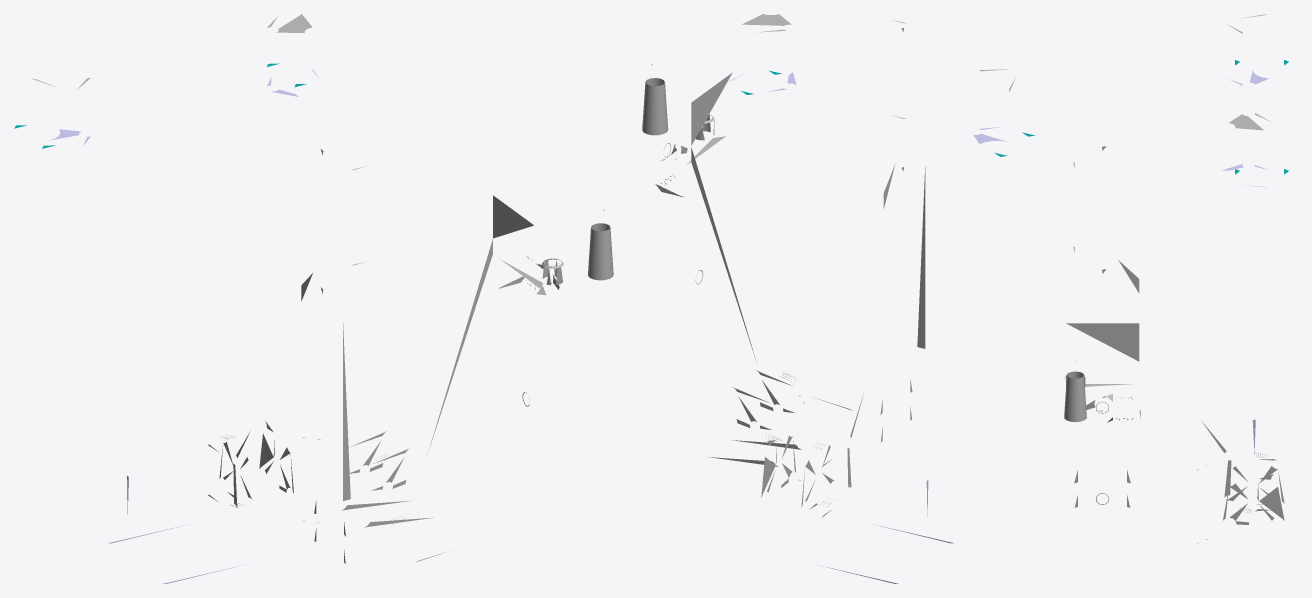
The picture shows the model from 3 angles, left to right: view 1: azimuth 30°, elevation 25°; view 2: azimuth 150°, elevation 25°; view 3: azimuth 270°, elevation 25°; orthographic projection. The views are drawn at different scales.
Visible parts, largest first — view 1: F19721000063102000117_001_zb_ub_stiftzieher_17_fa; view 2: F19721000063102000117_001_zb_ub_stiftzieher_17_fa (×2); view 3: F19721000063102000117_001_zb_ub_stiftzieher_17_fa (×2).
Boxes of the visible parts, box(x1,y1,x2,y2) form: F19721000063102000117_001_zb_ub_stiftzieher_17_fa: box(32, 14, 613, 563); F19721000063102000117_001_zb_ub_stiftzieher_17_fa (×2): box(642, 14, 1015, 583); F19721000063102000117_001_zb_ub_stiftzieher_17_fa (×2): box(1064, 14, 1284, 544).
Bounding box in the file's own units: 301 × 143 × 300.
